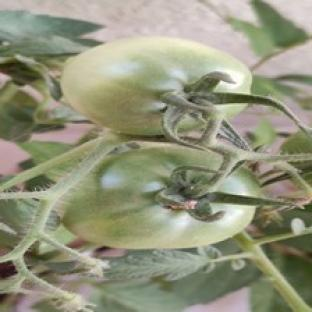Tomato: (60, 143, 254, 249), (62, 37, 252, 136), (280, 131, 311, 154)
